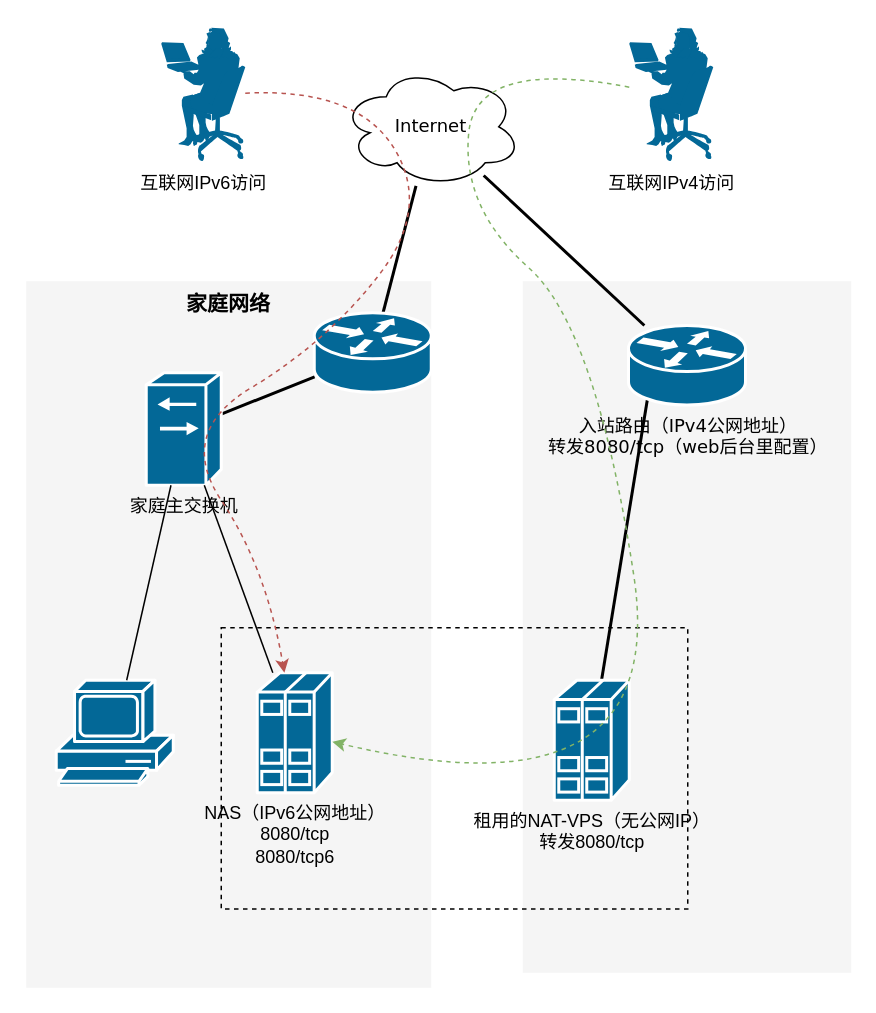
The diagram is 876 pixels wide and 1013 high, and some of its shapes have lost their labels. The shapes that lost their labels are listed below. From the top down, each one's box as (x1, y1, x2, y2) in pixels, then its label:
(312, 310, 432, 393): 家庭主路由 IPv4非公网地址NAT 分配IPv6公网前缀 配置IPv6防火墙入站规则
(522, 280, 850, 972): VPS服务商
(54, 678, 174, 786): 家里的其他设备
(220, 626, 688, 909): Wireguard网络
